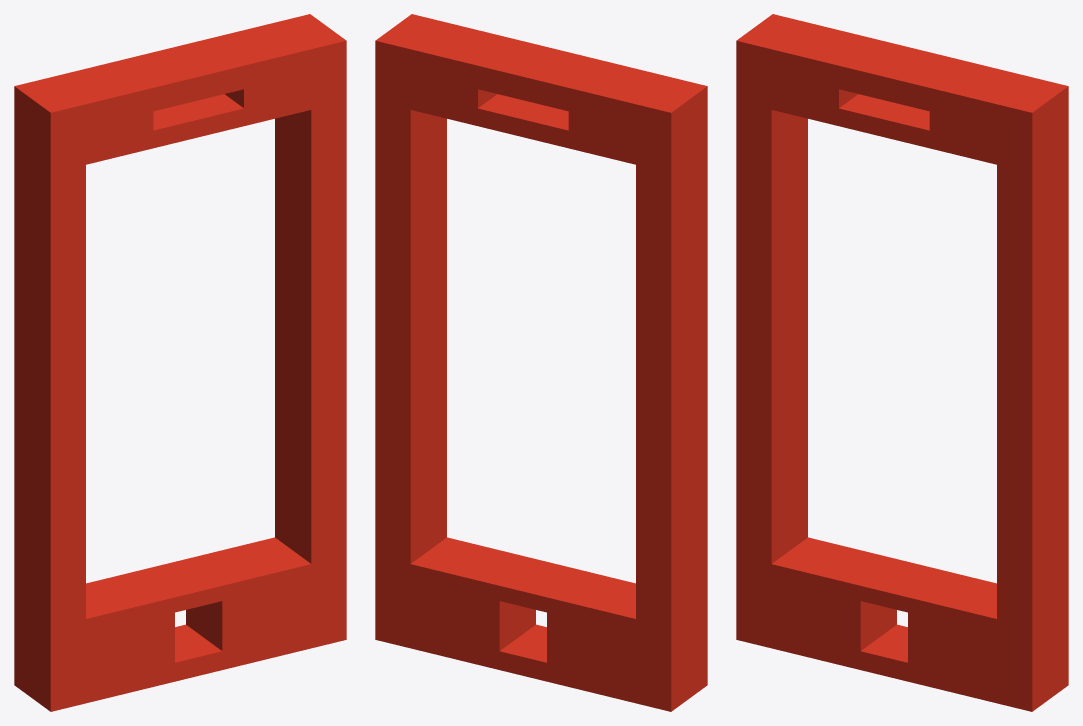
File: Icon_Smartphone_01.fbx
3 views of the same model, side by side, from view 1: azimuth 30°, elevation 25°; view 2: azimuth 150°, elevation 25°; view 3: azimuth 330°, elevation 25° (orthographic).
Parts seen in each view (by area): view 1: Icon_Smartphone_01; view 2: Icon_Smartphone_01; view 3: Icon_Smartphone_01.
Boxes of the visible parts, x1=… form: Icon_Smartphone_01: x1=14, y1=14, x2=346, y2=711; Icon_Smartphone_01: x1=375, y1=14, x2=707, y2=711; Icon_Smartphone_01: x1=736, y1=14, x2=1068, y2=711.
Size of the model in its own units: 37.17 by 71.93 by 7.94.
